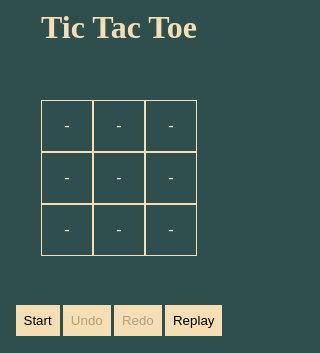
Test case: tic-tac-toe › As a player › on click button › should be able to redo operation
This screenshot has width=320, height=353.
Click the 1st text "-" at (67, 126), box [41,100,93,152]
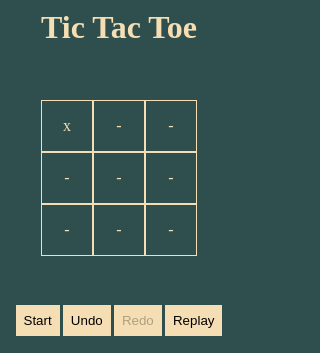
Click the button with test id "undo" at (87, 321), box [63,305,111,336]
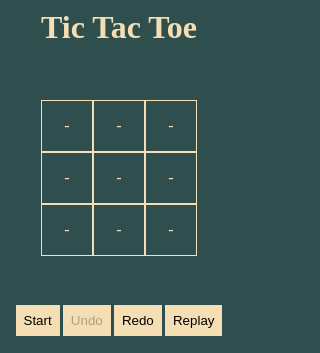
Click the button with test id "redo" at (138, 321), box [114,305,162,336]
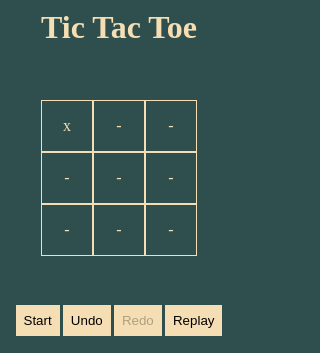
Expected: the text "x" is shown, [41,100,93,152]
